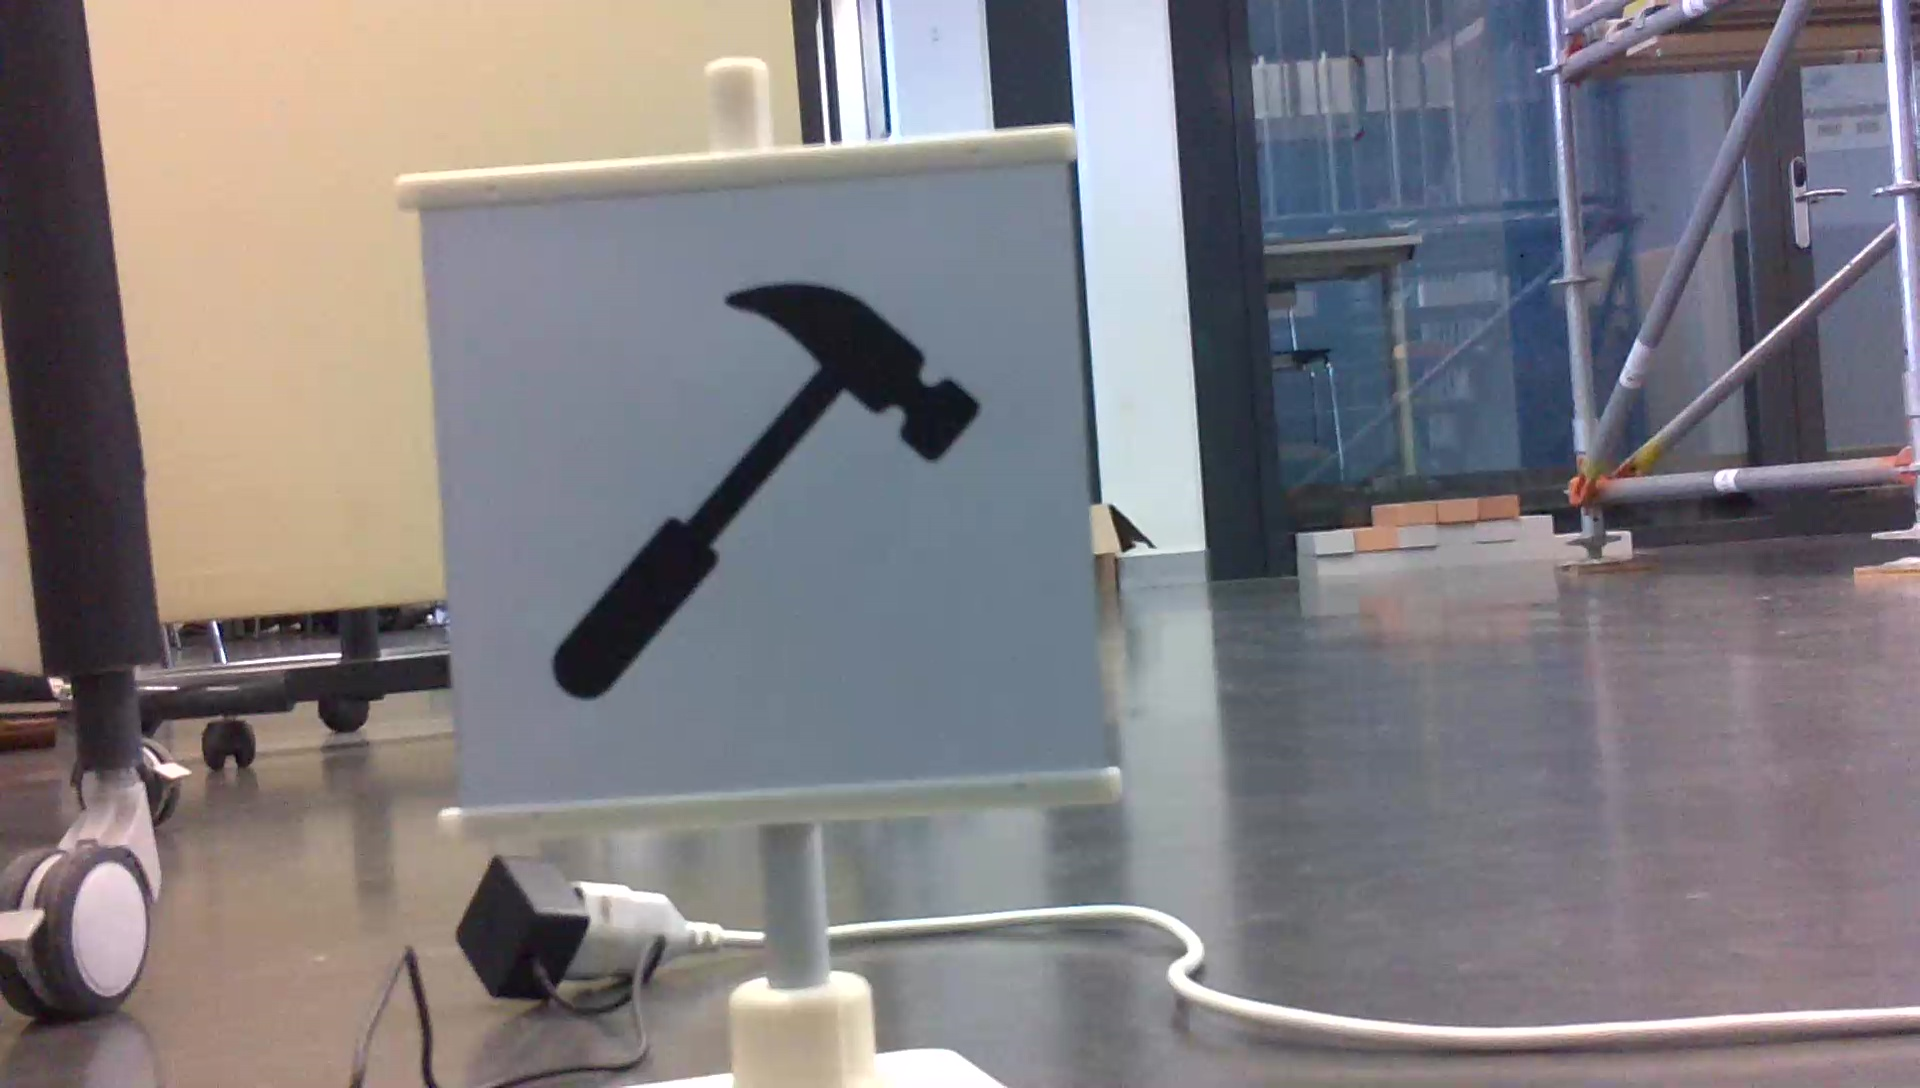hammer: (539, 270, 993, 708)
